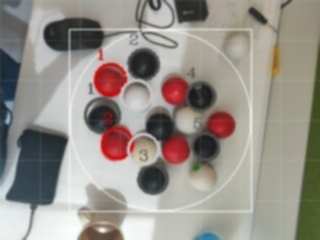Pelota blanca: (0, 199, 35, 240), (187, 161, 219, 192), (75, 221, 126, 240), (121, 81, 152, 112), (129, 133, 159, 165), (173, 105, 202, 135), (193, 229, 222, 240)
Pelota negra: (83, 97, 121, 135), (125, 47, 160, 81), (143, 105, 175, 141), (137, 163, 170, 195), (187, 79, 219, 111), (191, 133, 220, 162)
Pelota roja: (99, 125, 134, 162), (93, 61, 129, 96), (159, 73, 189, 106), (161, 135, 190, 165), (207, 111, 236, 141)
